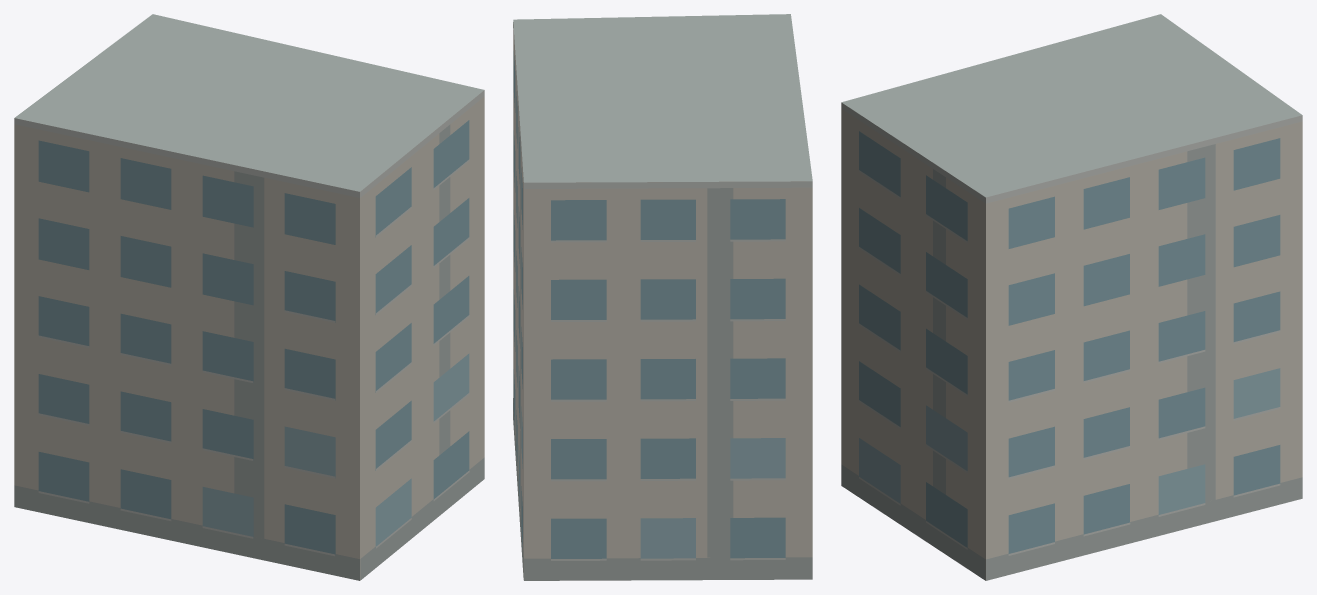
The model's file is survey-upis-32765168.glb.
The picture shows the model from 3 angles, left to right: view 1: azimuth 30°, elevation 25°; view 2: azimuth 150°, elevation 25°; view 3: azimuth 270°, elevation 25°; orthographic projection. The views are drawn at different scales.
Parts seen in each view (by area): view 1: survey-upis-32765168.tmp; view 2: survey-upis-32765168.tmp; view 3: survey-upis-32765168.tmp.
Part boxes in pixels (x1,y1,x2,y2): survey-upis-32765168.tmp: [14, 14, 484, 580]; survey-upis-32765168.tmp: [513, 14, 812, 580]; survey-upis-32765168.tmp: [841, 14, 1302, 580].
Size of the model in its own units: 15.66 by 15.25 by 16.64.
